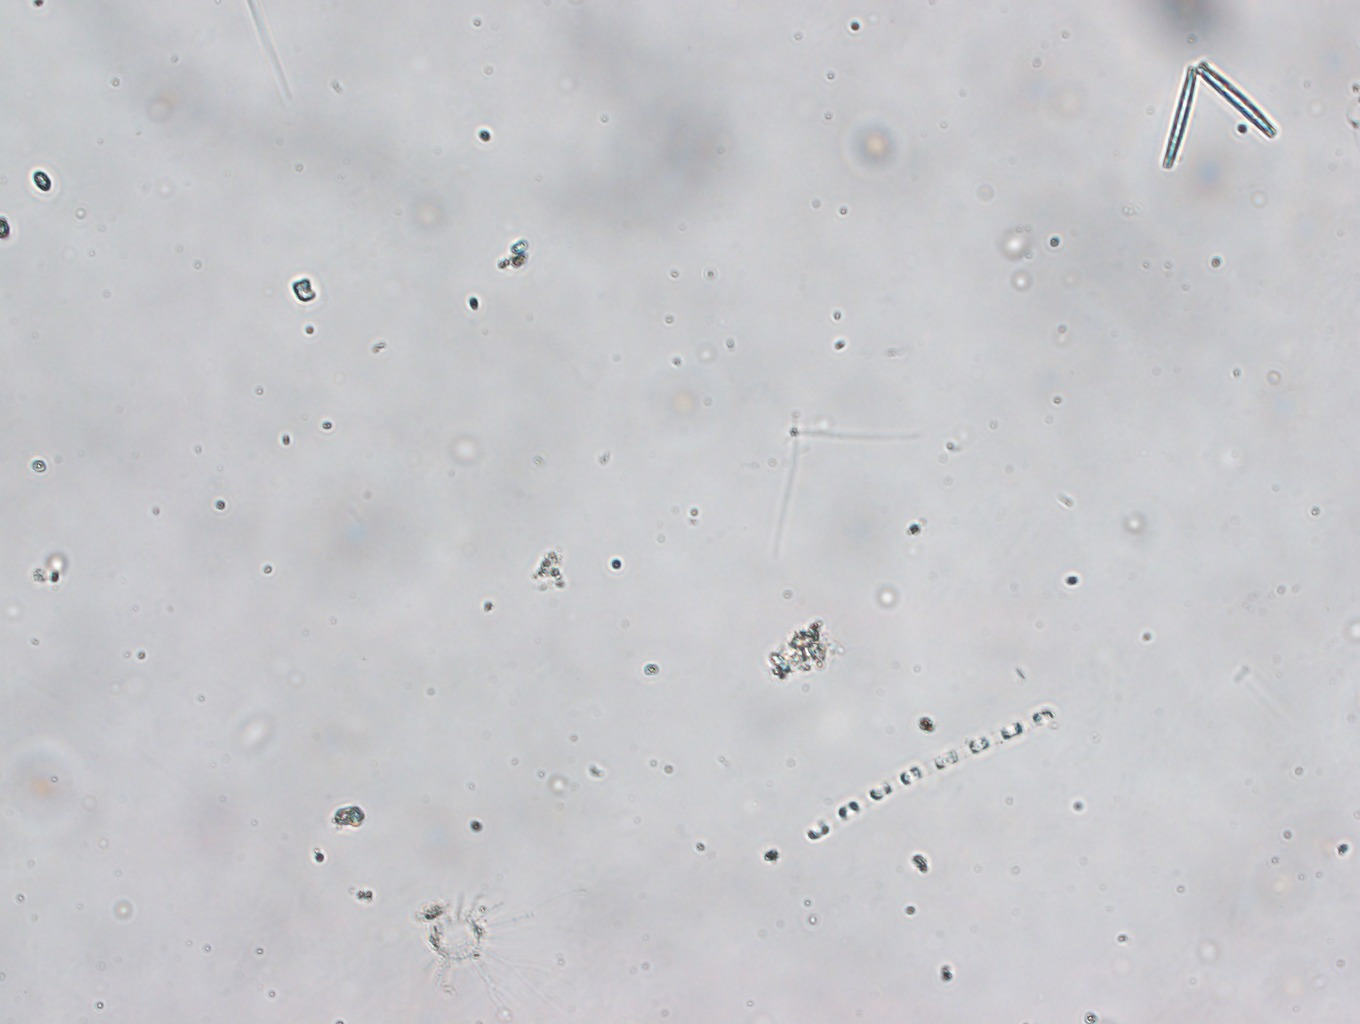skeletonema: (745, 695, 1080, 865)
thalassionema nitzschioides: (1156, 53, 1287, 175)
